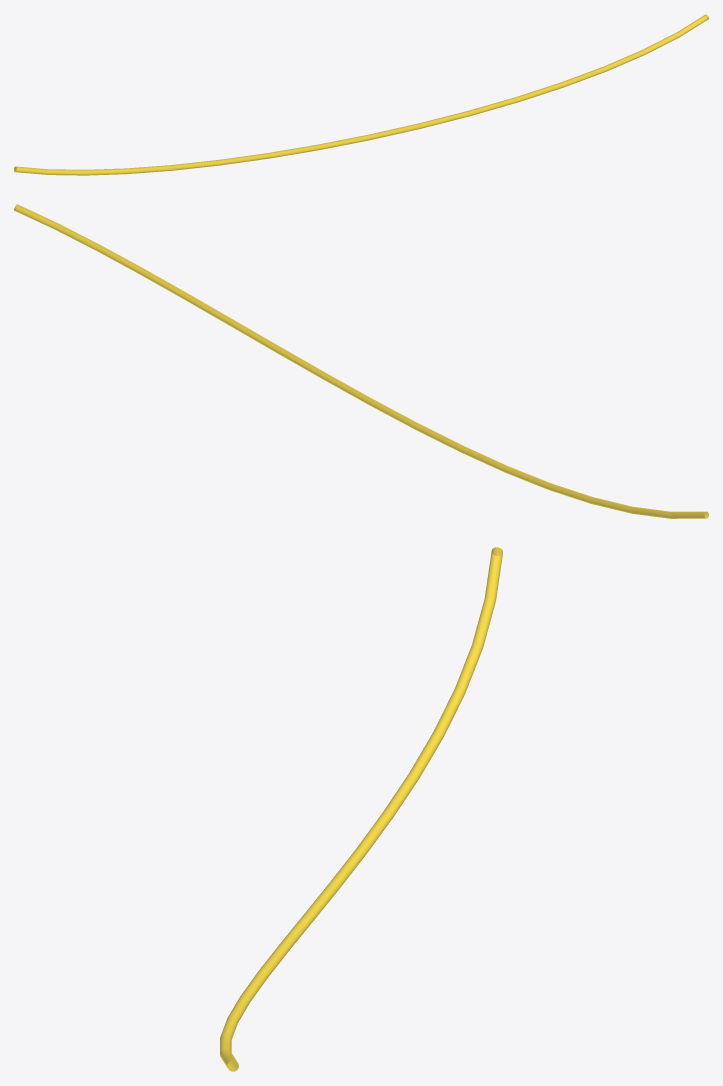
File: Event_100608114_track_83.fbx
3 views of the same model, one above another, from view 1: azimuth 30°, elevation 25°; view 2: azimuth 150°, elevation 25°; view 3: azimuth 270°, elevation 25° (orthographic). The views are drawn at different scales.
Visible parts, largest first — view 1: Model; view 2: Model; view 3: Model.
Part boxes in pixels (x1,y1,x2,y2): Model: (14,14,708,175); Model: (14,204,708,518); Model: (220,547,502,1071).
Size of the model in its own units: 4.98 by 0.5776 by 0.9738.
